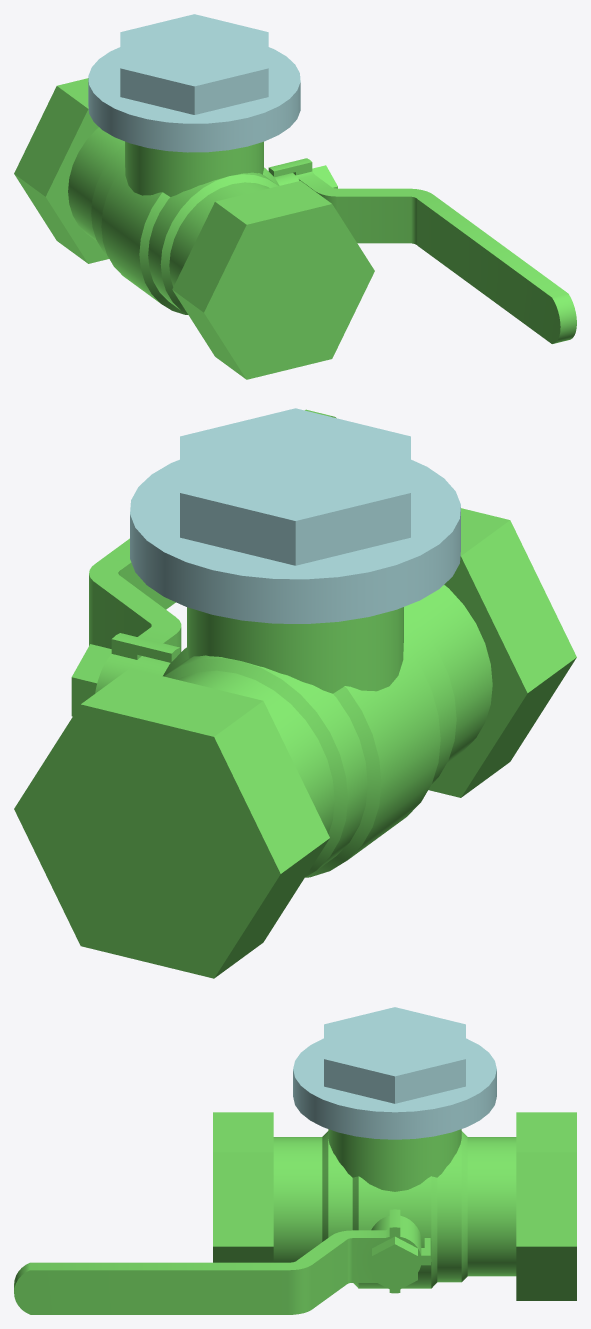
The model's file is Mutasihti-Frame.fbx.
3 views of the same model, one above another, from view 1: azimuth 30°, elevation 25°; view 2: azimuth 150°, elevation 25°; view 3: azimuth 270°, elevation 25° (orthographic). The views are drawn at different scales.
Parts seen in each view (by area): view 1: Mutasihti-Frame, Mutasihti, Mutasihti-Handle; view 2: Mutasihti-Frame, Mutasihti, Mutasihti-Handle; view 3: Mutasihti-Frame, Mutasihti-Handle, Mutasihti.
Part boxes in pixels (x1=…): Mutasihti-Frame: x1=14, y1=78, x2=374, y2=379; Mutasihti: x1=88, y1=14, x2=300, y2=152; Mutasihti-Handle: x1=268, y1=158, x2=576, y2=344; Mutasihti-Frame: x1=14, y1=508, x2=576, y2=978; Mutasihti: x1=130, y1=408, x2=460, y2=623; Mutasihti-Handle: x1=71, y1=409, x2=336, y2=716; Mutasihti-Frame: x1=213, y1=1112, x2=576, y2=1300; Mutasihti-Handle: x1=14, y1=1209, x2=431, y2=1314; Mutasihti: x1=293, y1=1007, x2=496, y2=1139.
Bounding box in the file's own units: 5.03 × 4.35 × 9.28.
